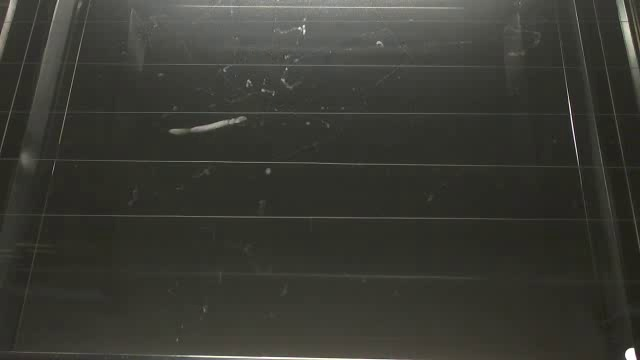Alfa: (166, 114, 249, 137)
